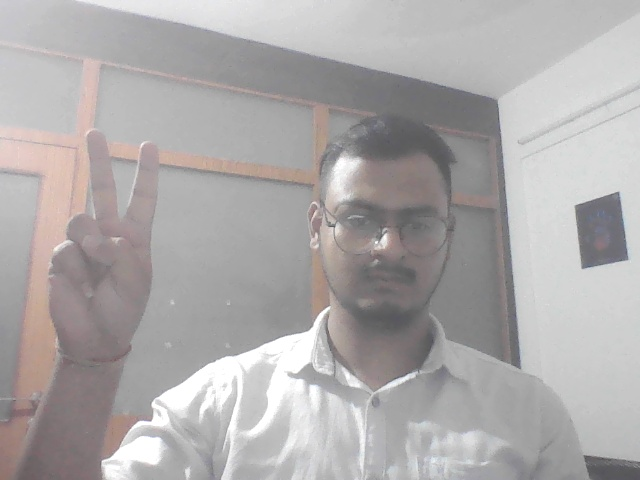Peace: (36, 127, 163, 372)
